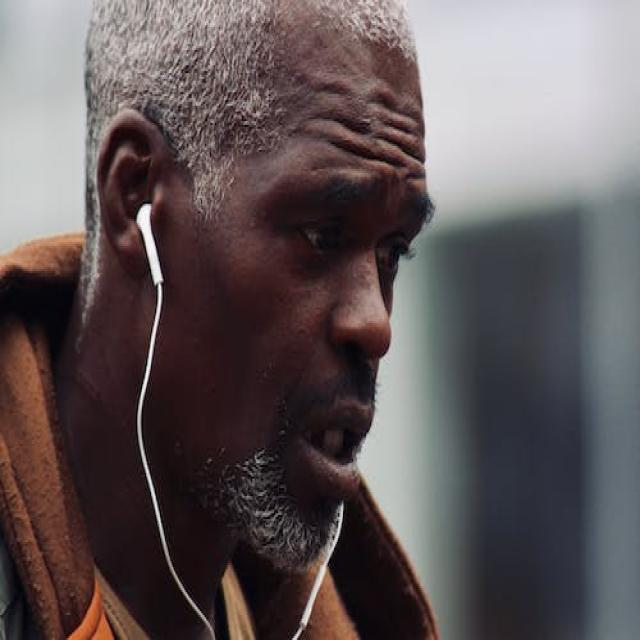Earphone: (137, 200, 343, 640)
